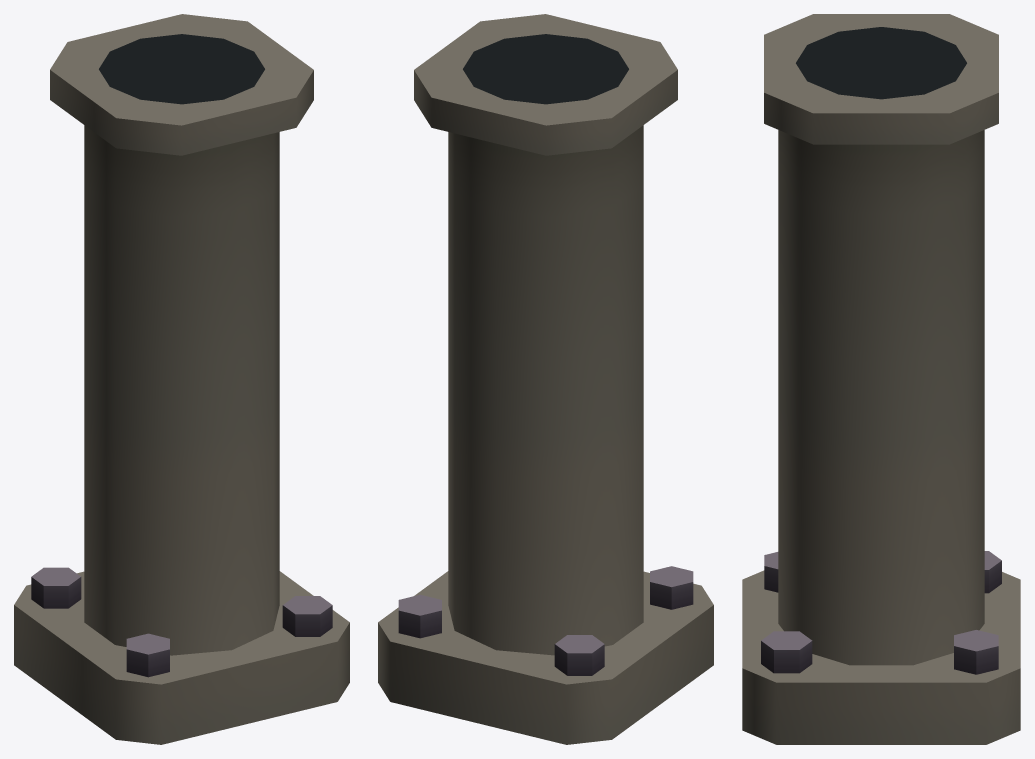
The model's file is Pipe_1C.fbx.
3 renders of one model, left to right at view 1: azimuth 30°, elevation 25°; view 2: azimuth 150°, elevation 25°; view 3: azimuth 270°, elevation 25°, orthographic. The views are drawn at different scales.
Parts seen in each view (by area): view 1: Pipe_1C; view 2: Pipe_1C; view 3: Pipe_1C.
Part boxes in pixels (x1=…): Pipe_1C: x1=14, y1=14, x2=349, y2=744; Pipe_1C: x1=378, y1=14, x2=713, y2=744; Pipe_1C: x1=742, y1=14, x2=1020, y2=744.
Bounding box in the file's own units: 162 × 400 × 162.
